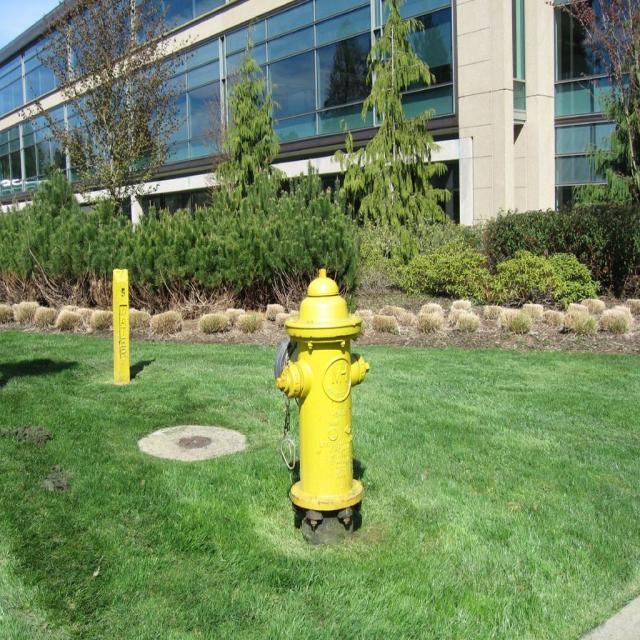fire_hydrant: (278, 263, 369, 547)
